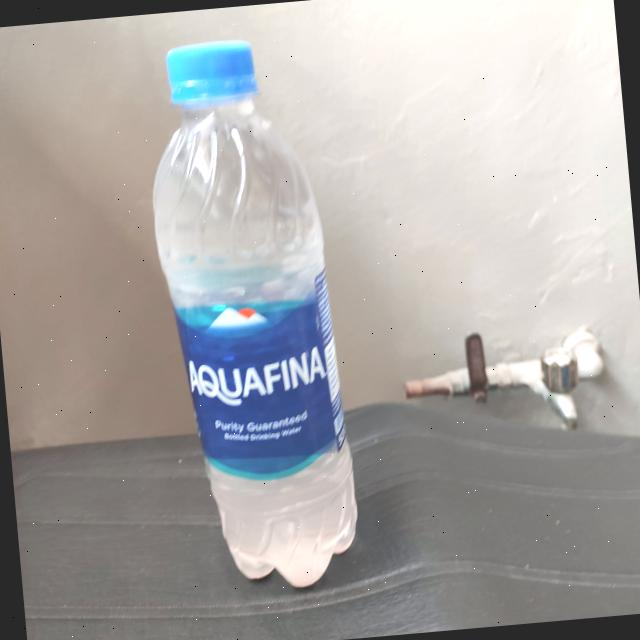bottle: (132, 30, 370, 604)
cap: (163, 35, 264, 110)
label: (174, 275, 354, 481)
